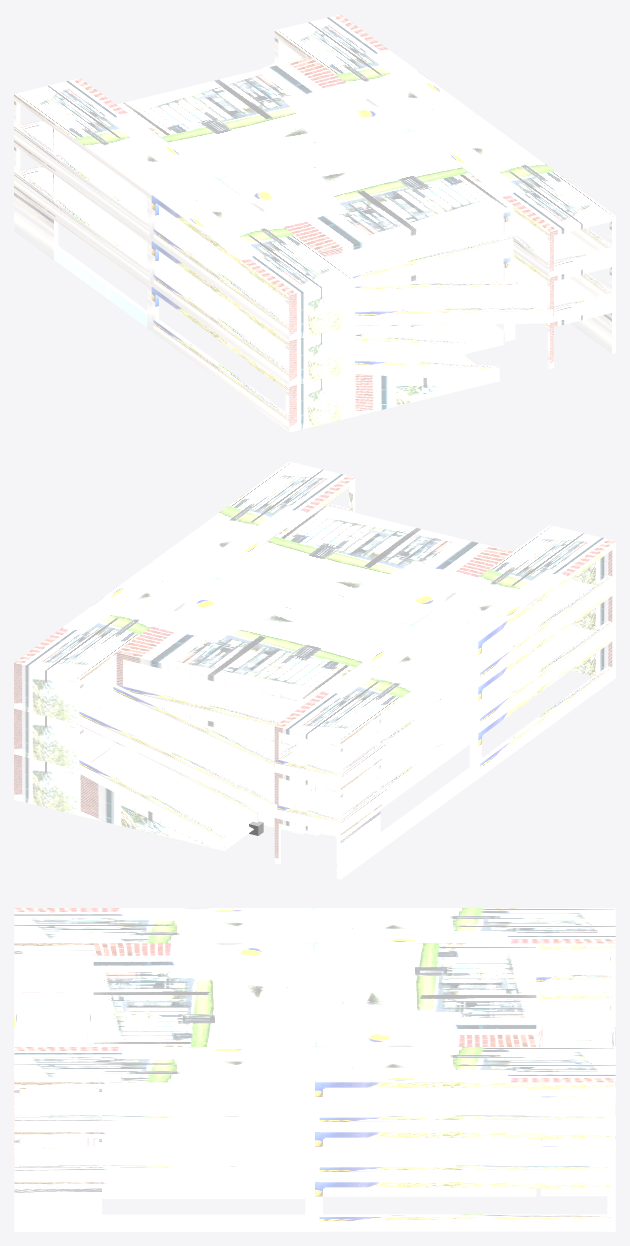
File: parking_gltf.glb
3 views of the same model, one above another, from view 1: azimuth 30°, elevation 25°; view 2: azimuth 150°, elevation 25°; view 3: azimuth 270°, elevation 25° (orthographic). The views are drawn at different scales.
Visible parts, largest first — view 1: Shape_IndexedFaceSet, Shape_IndexedFaceSet.001; view 2: Shape_IndexedFaceSet, Shape_IndexedFaceSet.001; view 3: Shape_IndexedFaceSet, Shape_IndexedFaceSet.001.
Boxes of the visible parts, left/top/right/bottom form: Shape_IndexedFaceSet: left=14, top=14, right=615, bottom=432; Shape_IndexedFaceSet.001: left=35, top=132, right=594, bottom=365; Shape_IndexedFaceSet: left=14, top=461, right=615, bottom=879; Shape_IndexedFaceSet.001: left=83, top=579, right=593, bottom=849; Shape_IndexedFaceSet: left=14, top=908, right=615, bottom=1231; Shape_IndexedFaceSet.001: left=20, top=960, right=609, bottom=1198.
Size of the model in its own units: 70.47 by 29.46 by 103.
Materials: 3 (1 with a texture image).
